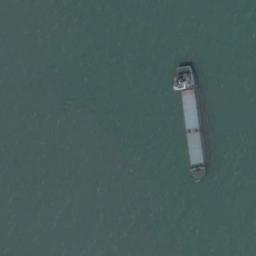boat: (173, 63, 209, 184)
